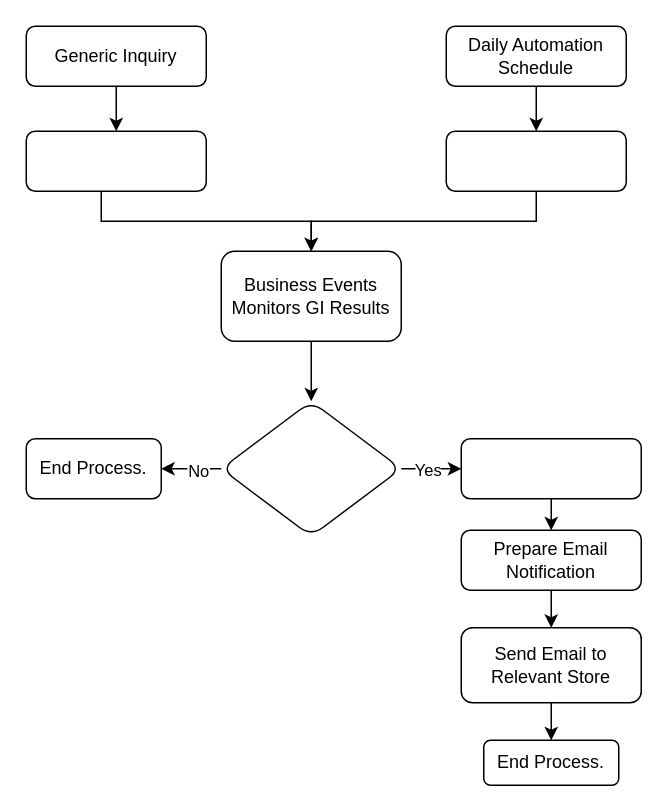
The diagram is 668 pixels wide and 812 high, and some of its shapes have lost their labels. Here are the shapes that lost their labels. From the top down, the centre of each, then its label:
At pixel 115 160: "Display Matching Outstanding POs".
At pixel 535 160: "Trigger Business Event".
At pixel 310 468: "Matching Records Found?".
At pixel 550 468: "Load Linked Mail Template".
